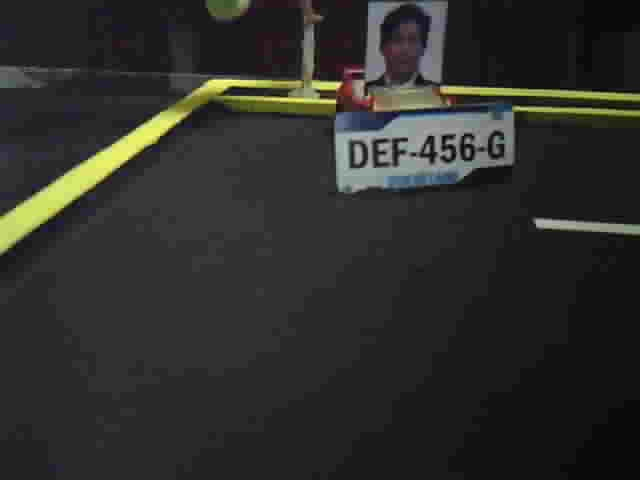PLACA: (331, 101, 515, 197)
ROSTRO: (368, 3, 442, 92)
